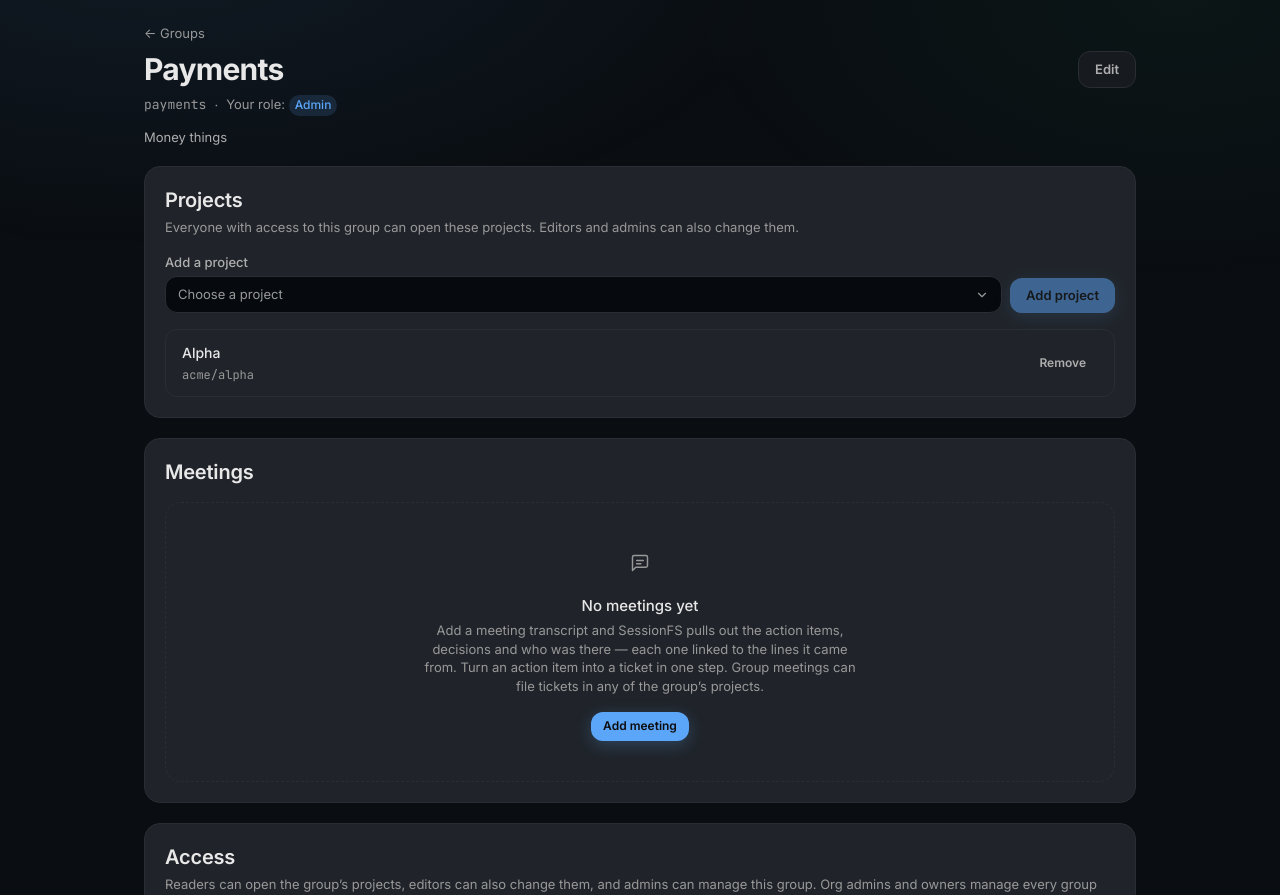
Test: GroupDetailPage — group admin › only offers projects the caller can edit when they are not an org admin
Check: the link "Alpha" is shown, box x1=182 y1=344 x2=220 y2=361
Click the button named "Add a project": (230, 294) x1=165 y1=276 x2=1002 y2=313
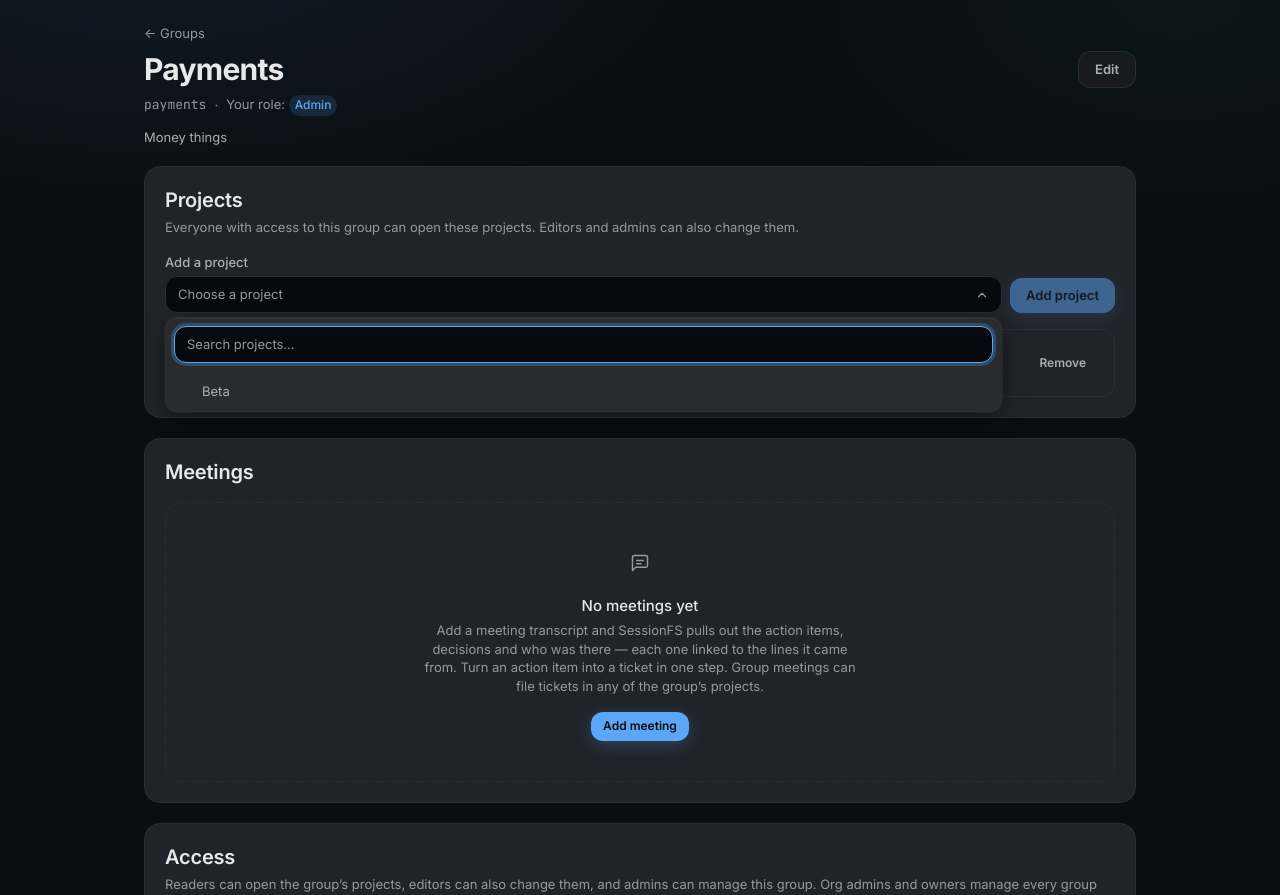
Check: the option "Beta" is shown, box x1=202 y1=383 x2=230 y2=399
